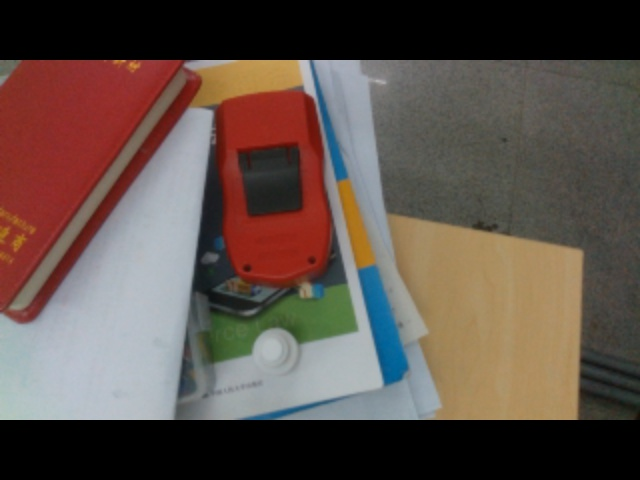Multimeter: (216, 87, 334, 287)
Screw holes: (241, 261, 255, 272), (303, 255, 318, 265)
